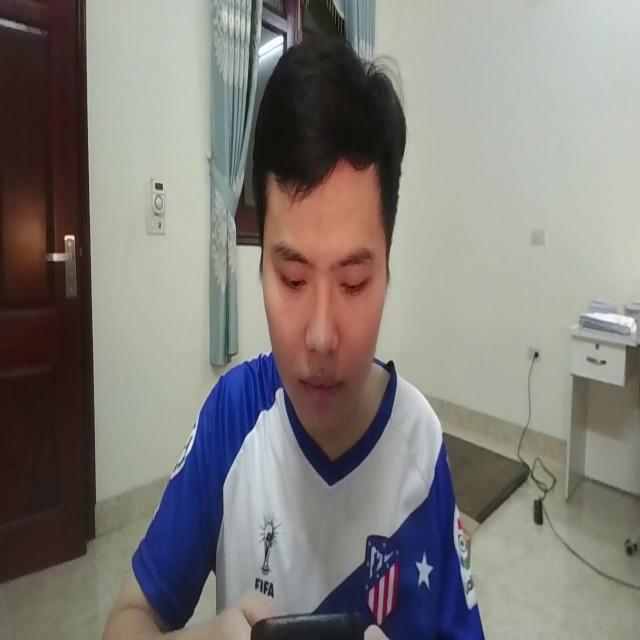student: (106, 24, 492, 640)
